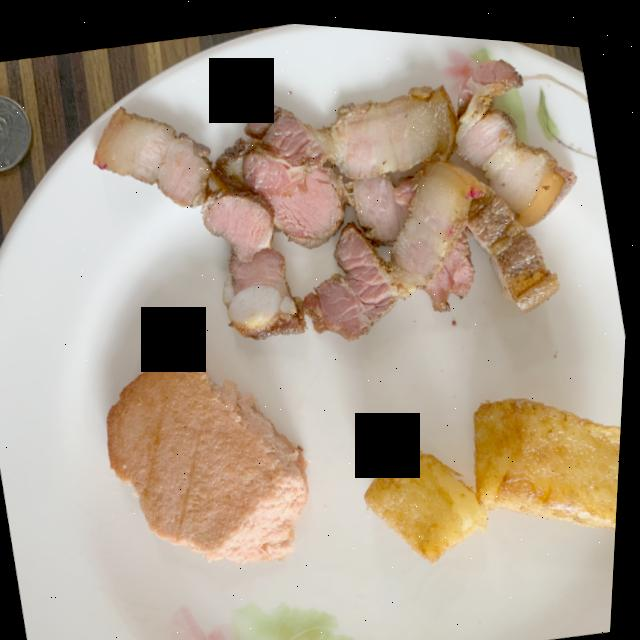Spam: (110, 345, 313, 557)
coin: (0, 95, 33, 169)
fried potato: (368, 387, 625, 554)
grilled pork: (95, 50, 577, 333)
